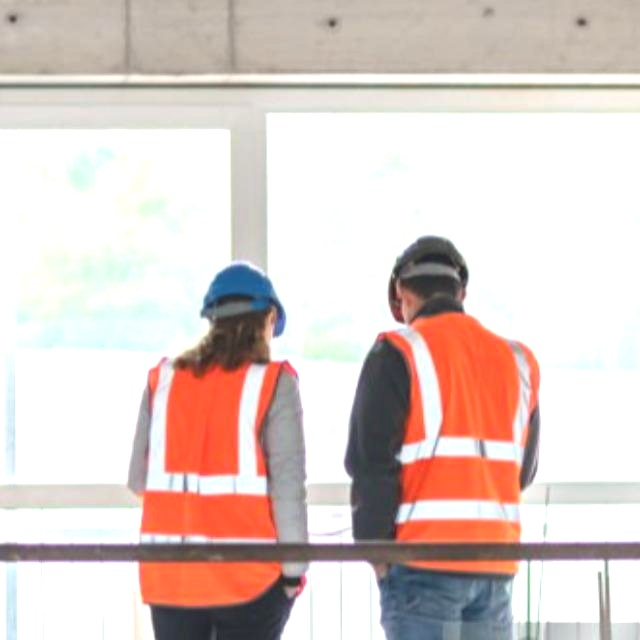Con_Chaleco: (373, 315, 539, 575), (138, 352, 310, 595)
